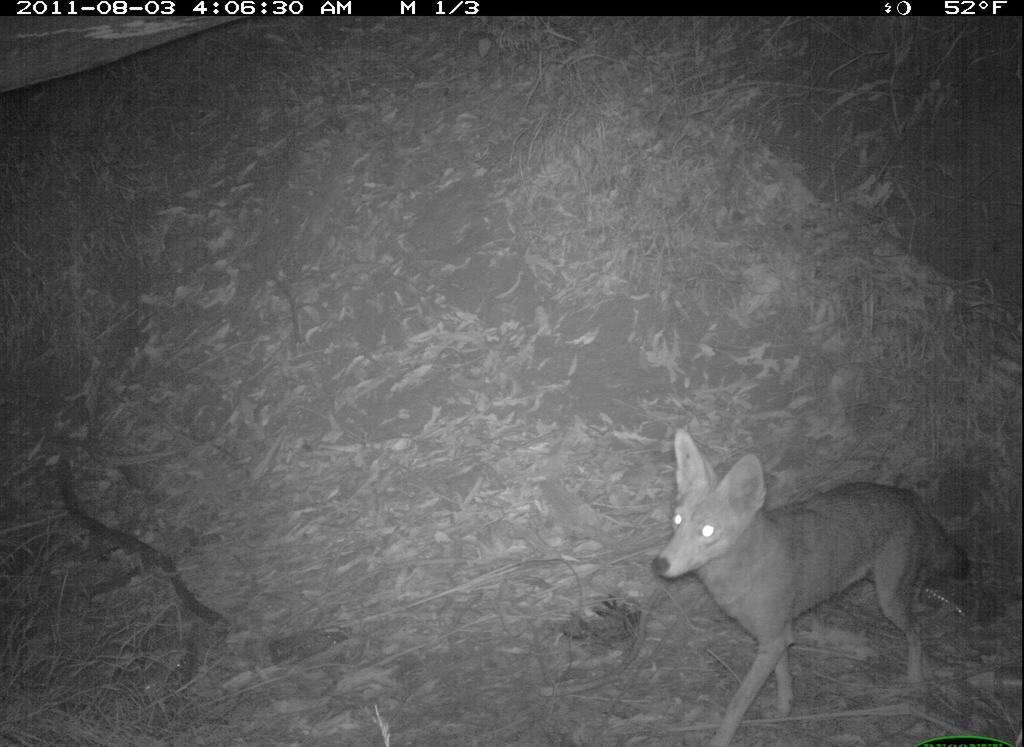coyote: (648, 422, 980, 747)
